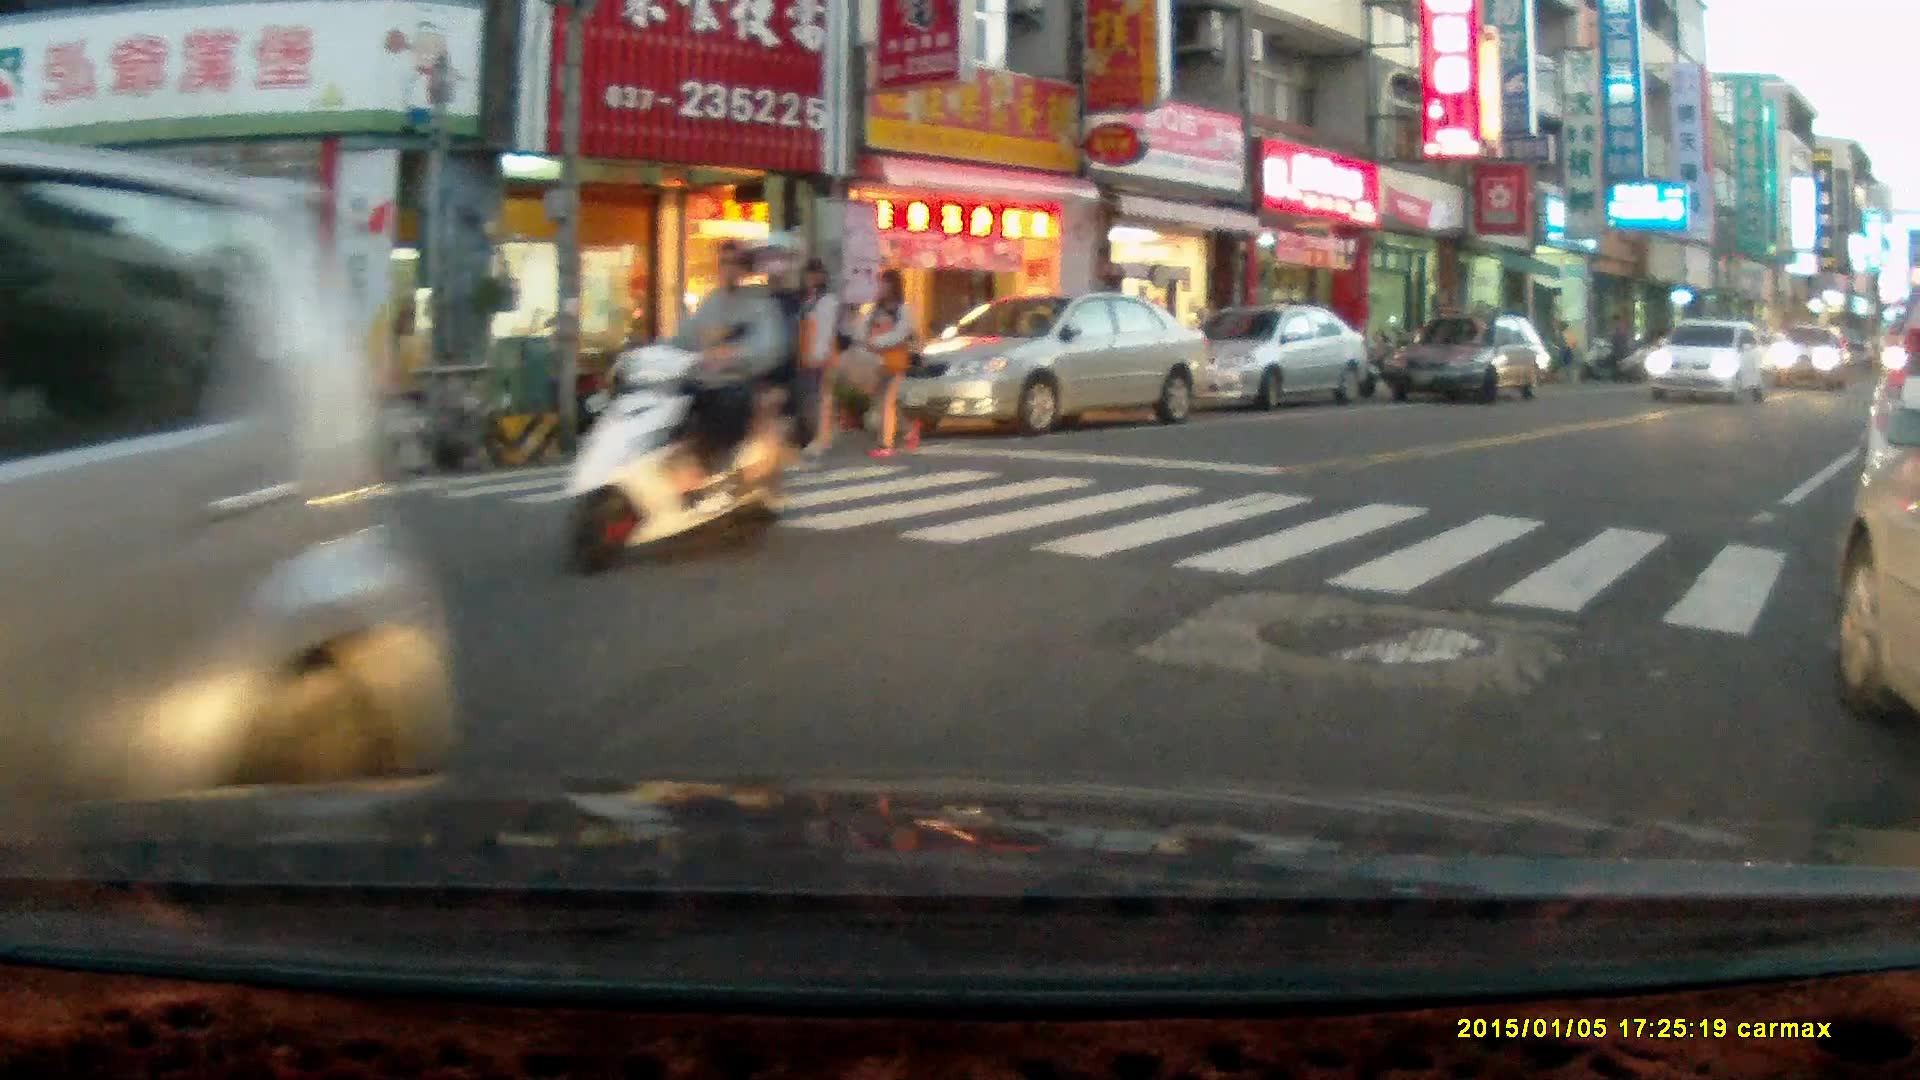pedestrian: (855, 263, 920, 457), (789, 260, 846, 459)
rider: (557, 230, 812, 577)
vehicle: (1, 138, 468, 836), (878, 291, 1213, 435), (1829, 441, 1920, 729), (1166, 303, 1371, 411), (1386, 311, 1554, 407), (1856, 354, 1920, 576), (1645, 318, 1770, 399), (1764, 319, 1857, 391)
